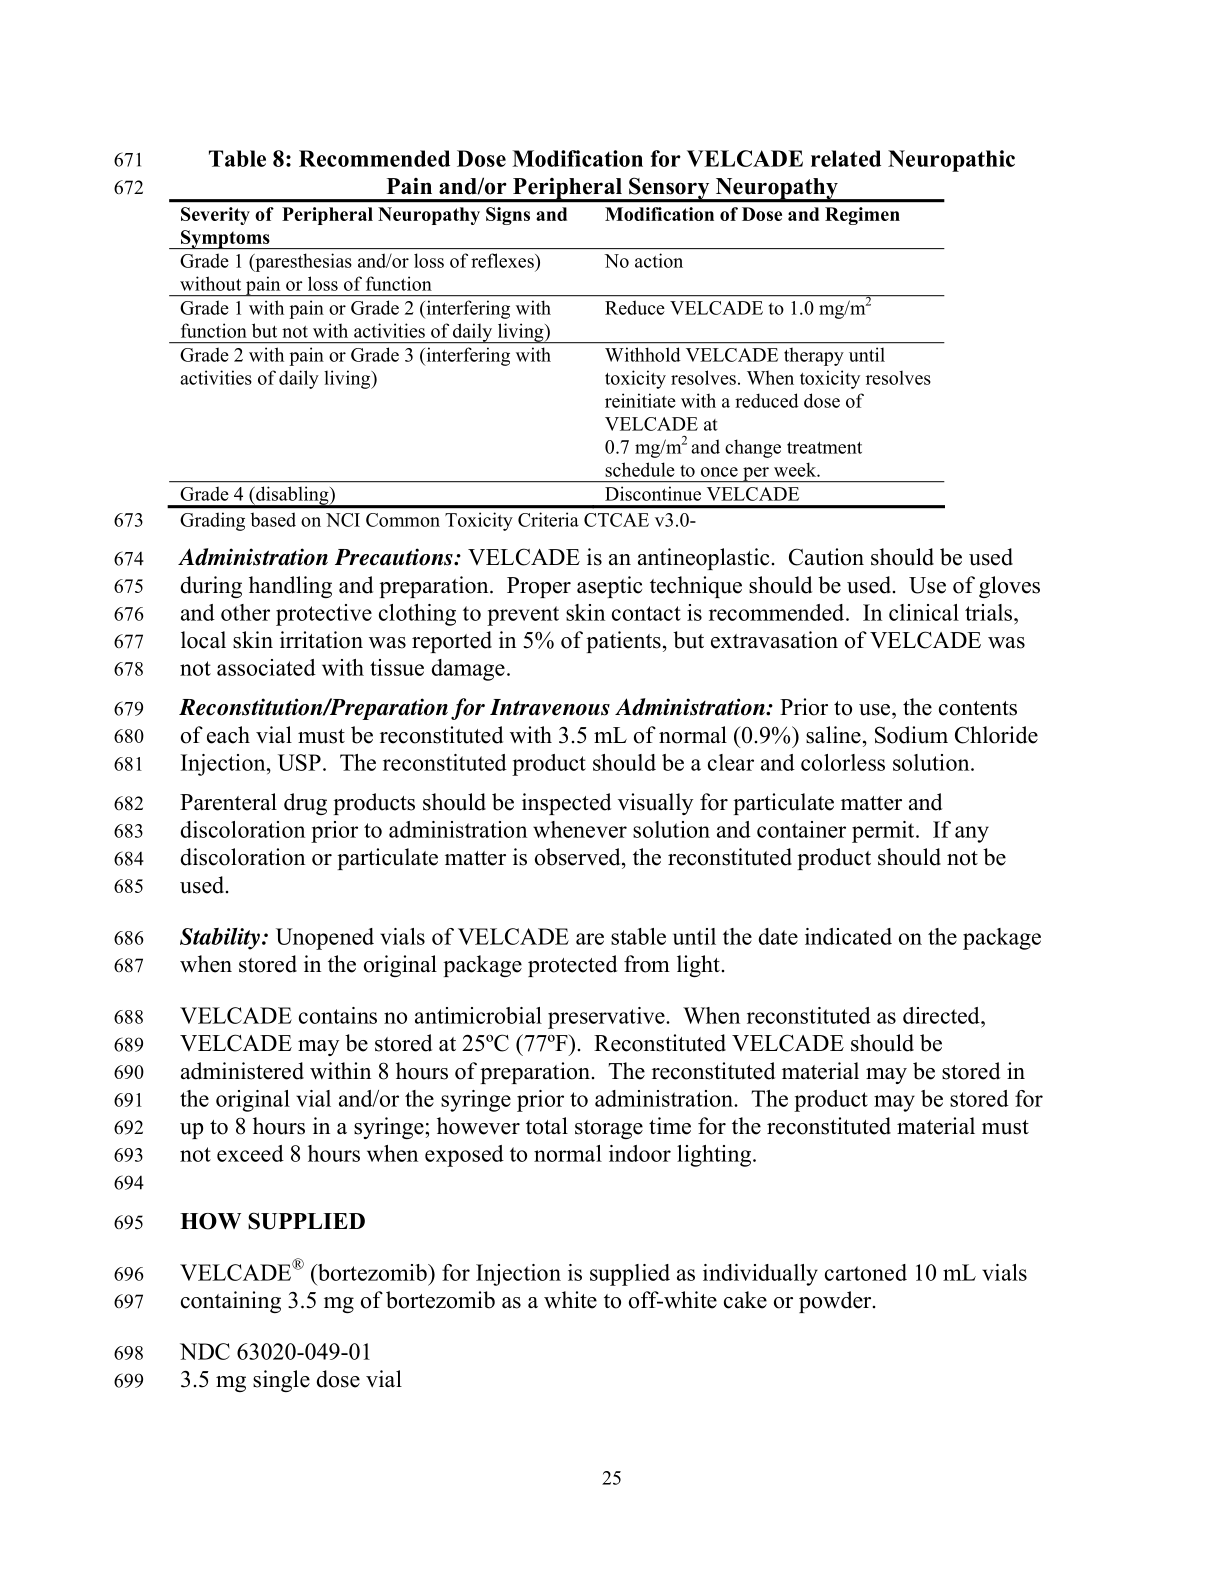partial_lined: (168, 195, 951, 510)
